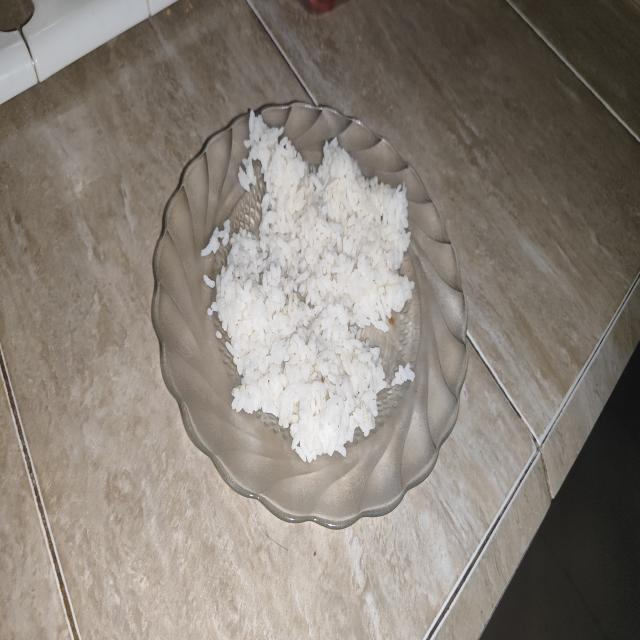nasi_putih: (202, 111, 415, 462)
